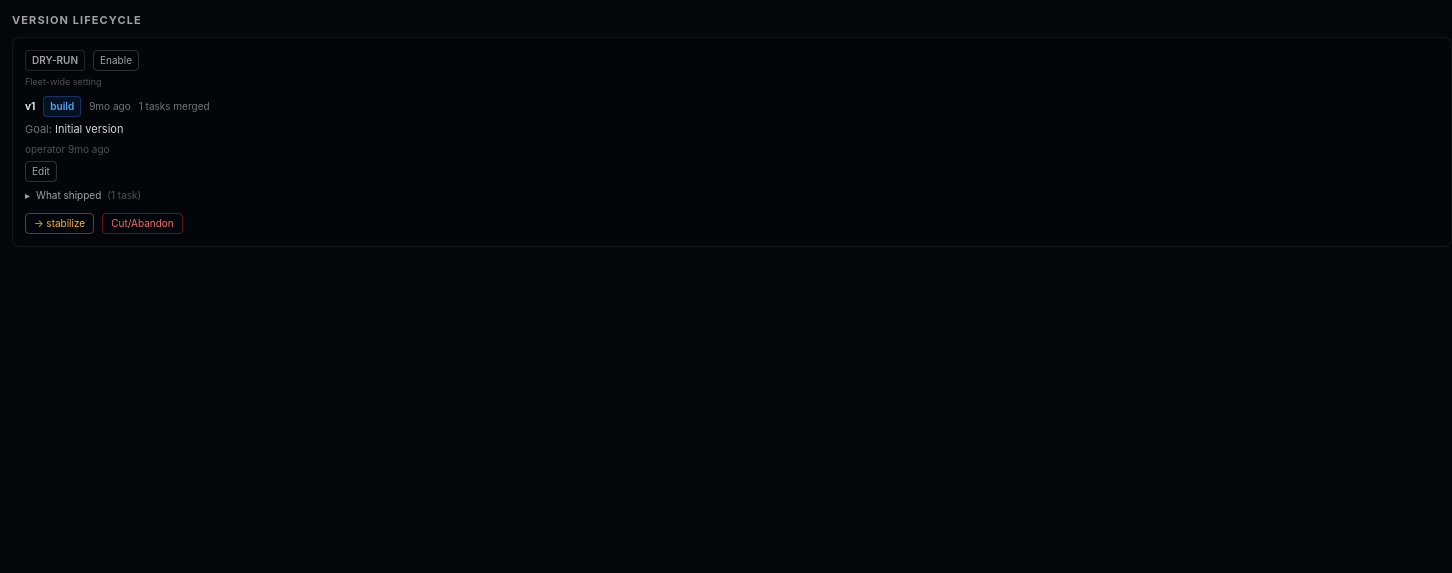
Test case: VersionLifecyclePanel › changelog toggle › renders criterion coverage panel with each criterion when criterion_coverage has criteria
The image size is (1452, 573).
Click the button with test id "changelog-toggle" at (83, 195), box [25,186,141,204]
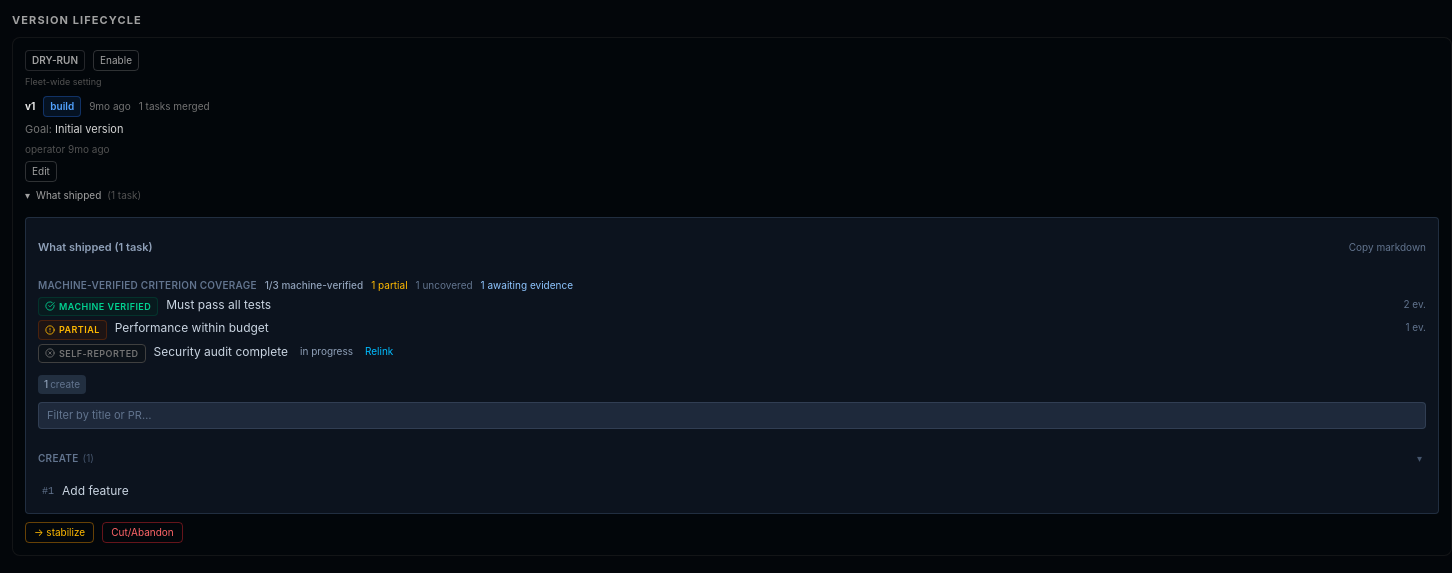
Check: the element with test id "criterion-coverage-panel" is shown, box [38,278,1426,363]
Check: the text "Must pass all tests" is shown, box [166,296,271,312]
Check: the text "Performance within budget" is shown, box [115,320,269,336]
